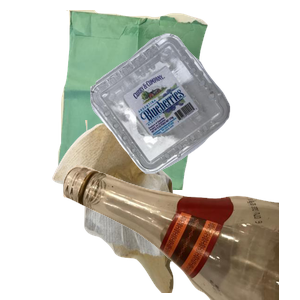glass: (60, 120, 300, 300)
paper: (55, 10, 255, 190)
plastic: (88, 31, 300, 198)
trash: (50, 120, 219, 300)
